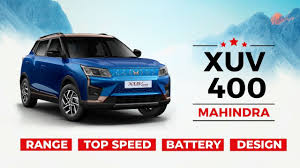XUV 400: (18, 31, 173, 120)
